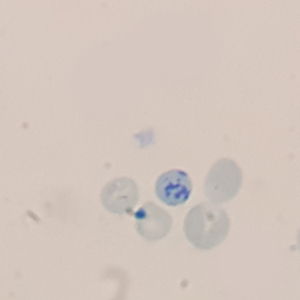aggregate reticulocyte: (154, 168, 195, 208)
erythrocyte: (180, 202, 232, 251), (133, 200, 175, 243), (99, 177, 142, 216)
punctate reticulocyte: (202, 155, 243, 204)
